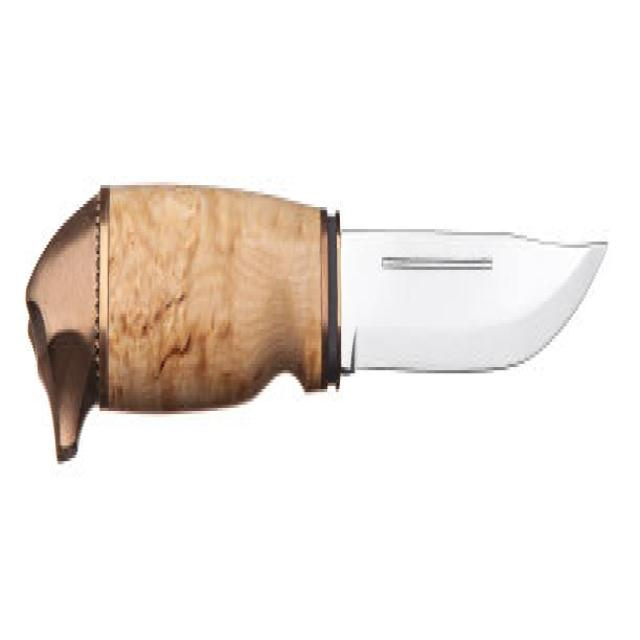knife: (21, 174, 612, 485)
